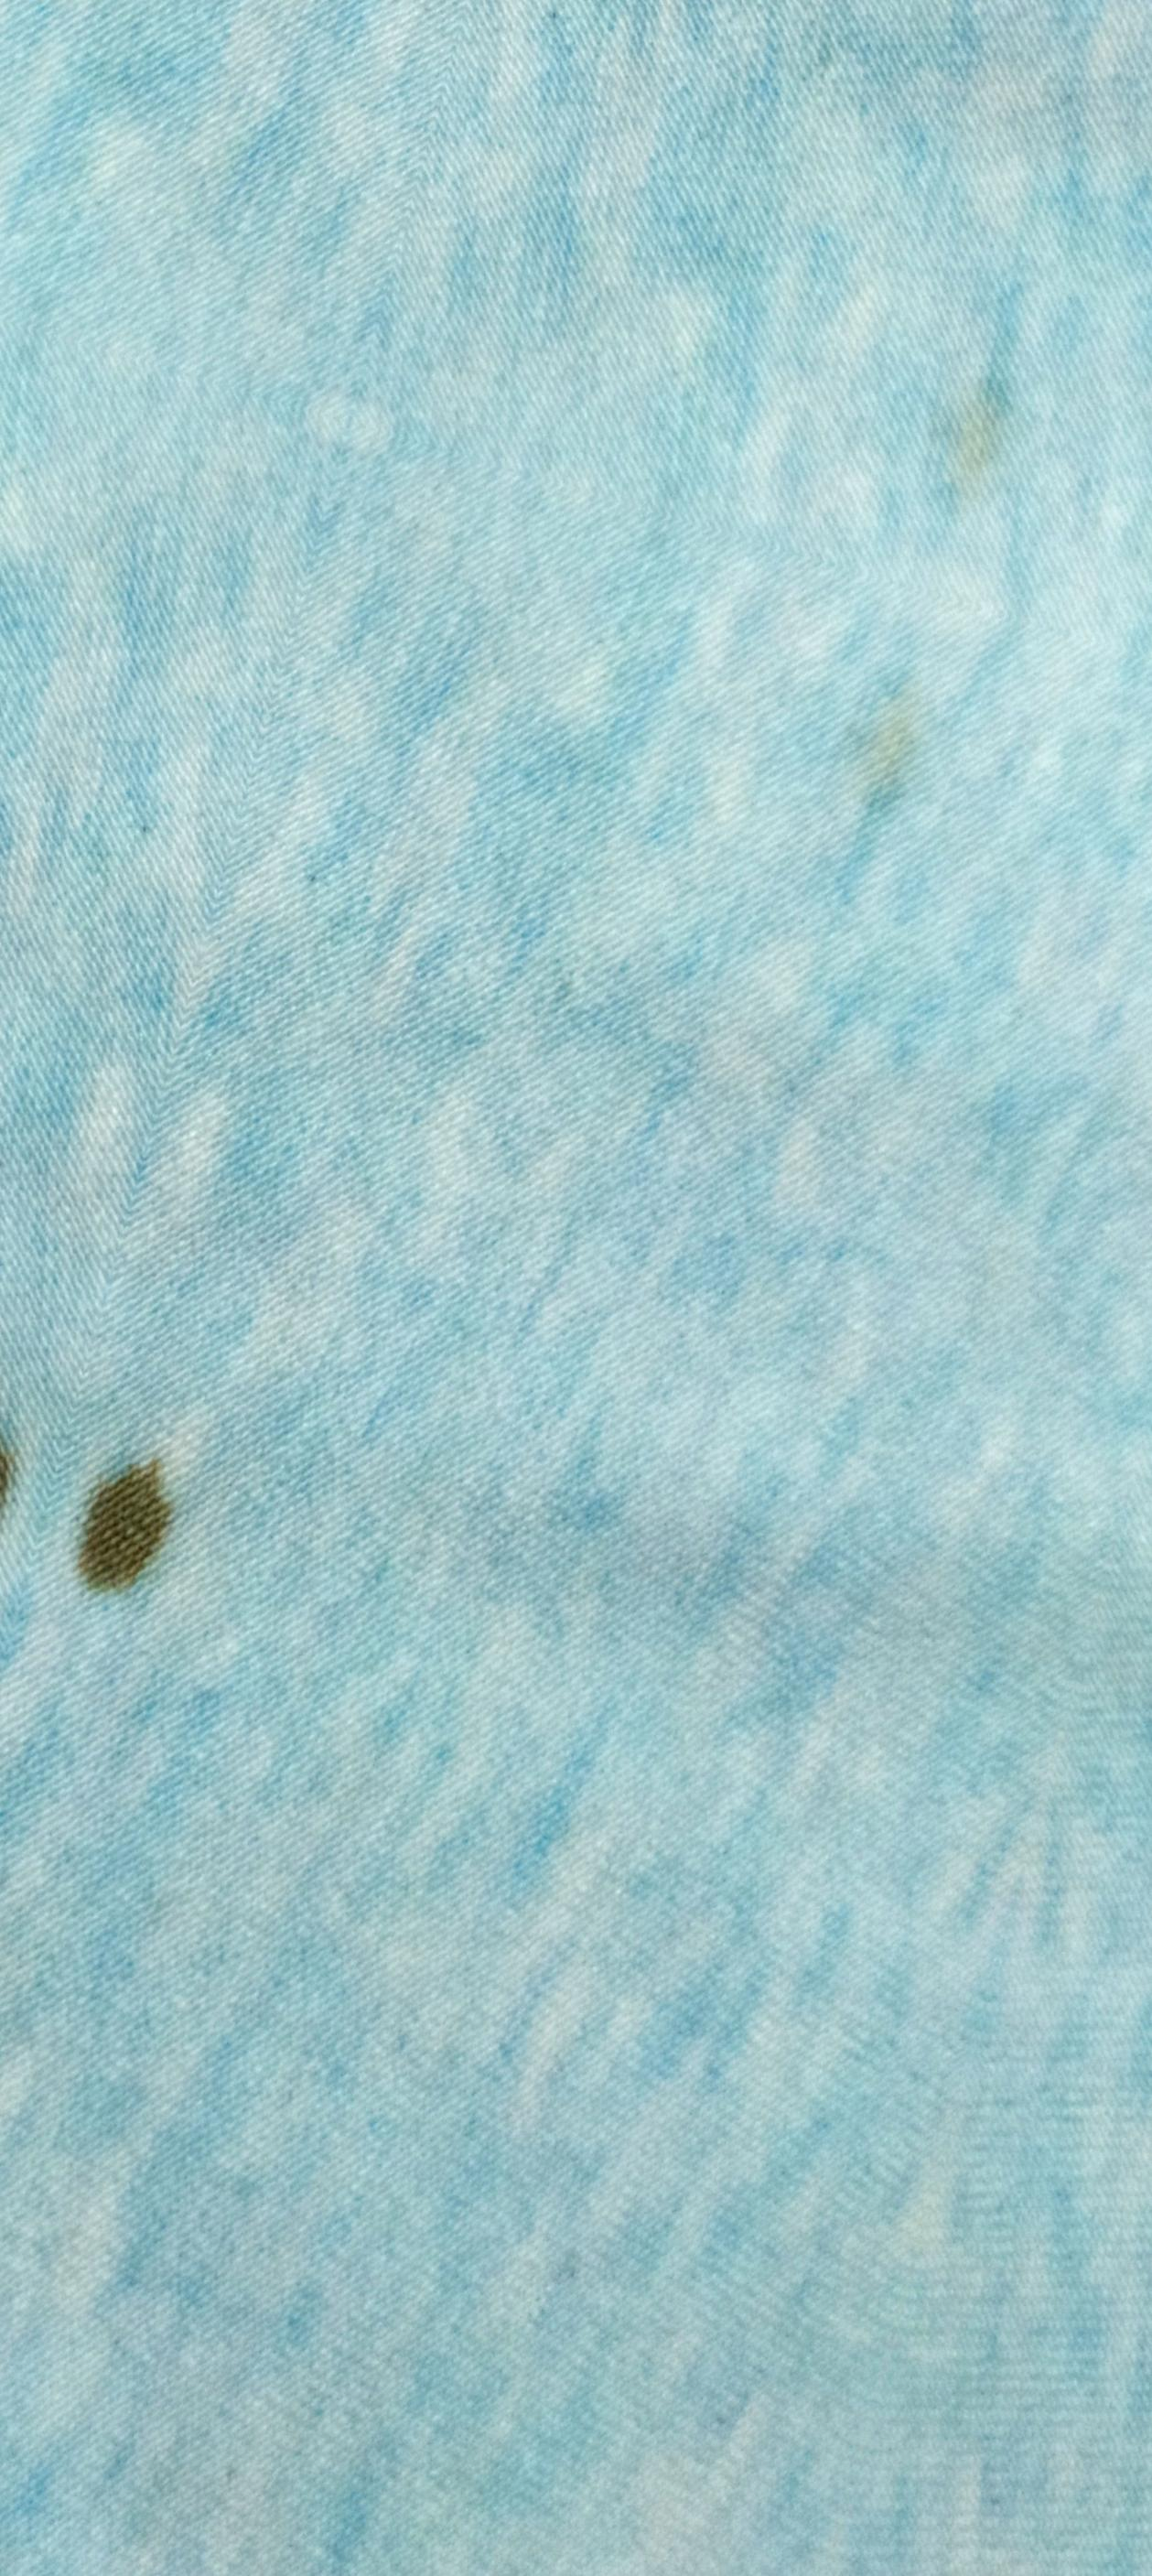stain: (49, 1419, 235, 1612)
